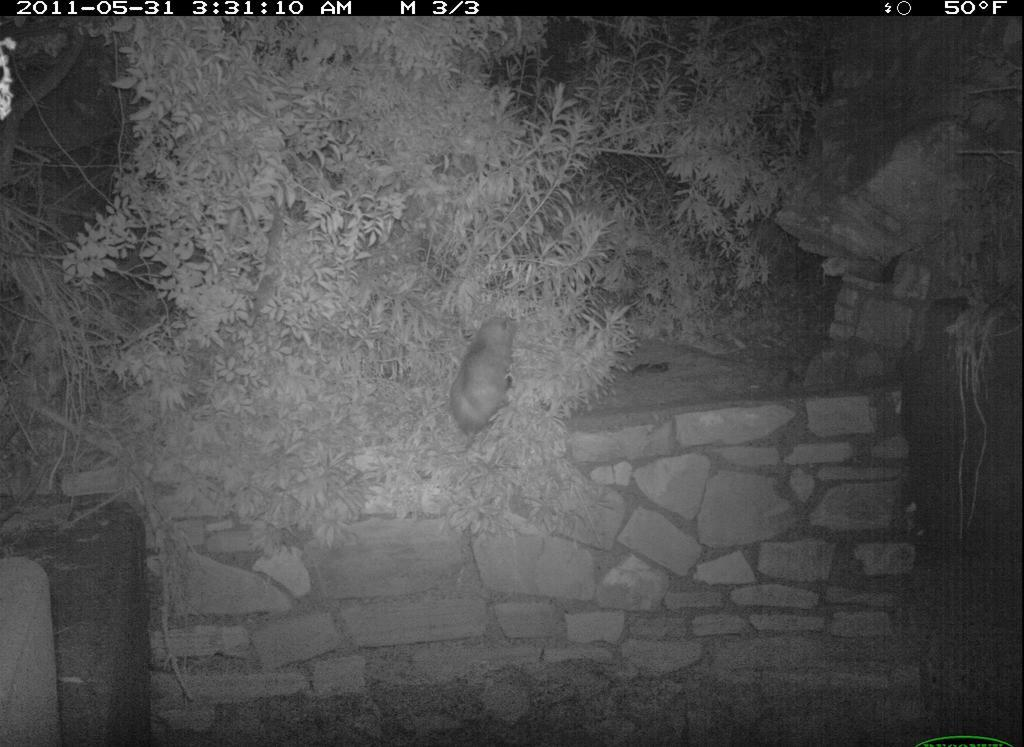opossum: (439, 302, 542, 464)
